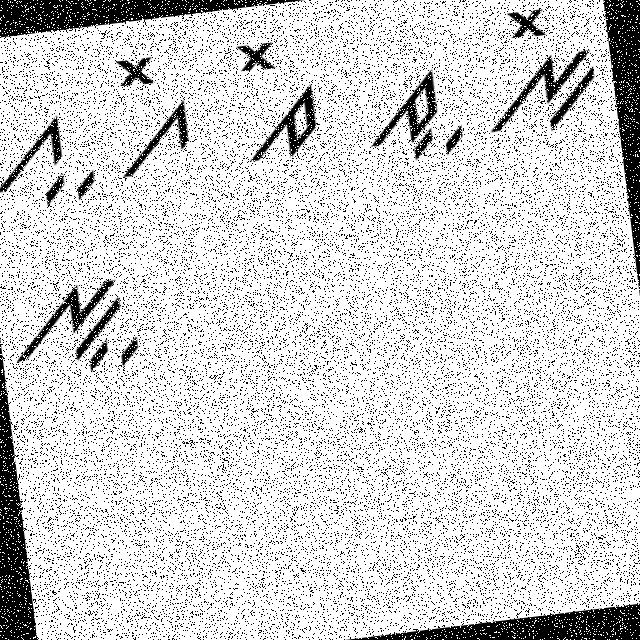gah: (0, 106, 100, 218)
go: (102, 45, 211, 182)
ngah: (2, 255, 146, 384)
ngo: (472, 0, 607, 142)
tah: (365, 58, 470, 166)
to: (218, 23, 336, 170)
